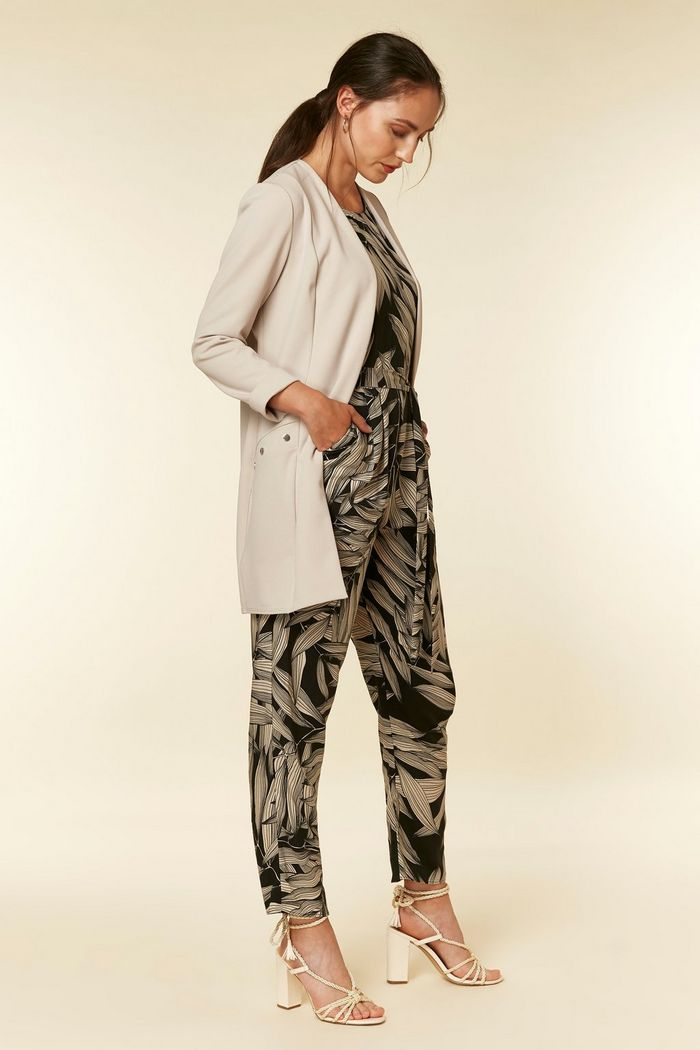F_W_suit jacket: (206, 173, 445, 533)
